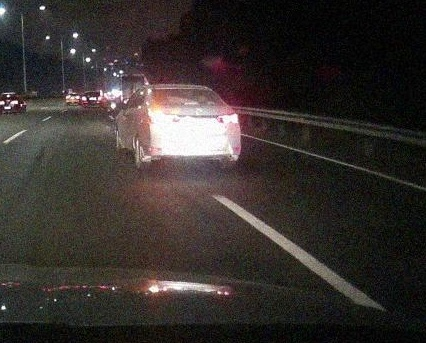L_light: (150, 113, 172, 125), (0, 101, 4, 105)
R_light: (216, 113, 239, 124), (12, 101, 18, 104)
T_light: (176, 89, 191, 92), (7, 95, 12, 96)
night-no: (148, 85, 240, 171), (0, 94, 19, 116)
